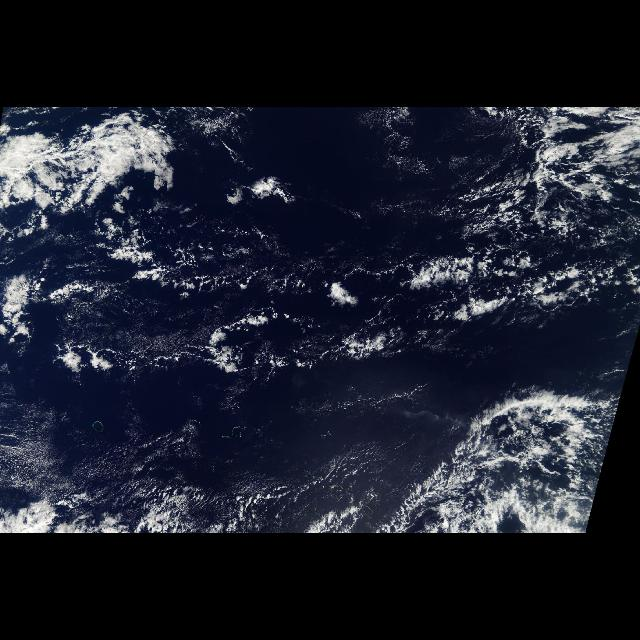Fish: (378, 365, 624, 525), (1, 108, 185, 246)
Gravel: (59, 180, 639, 374), (422, 391, 622, 534)
Sugar: (2, 378, 414, 508)
